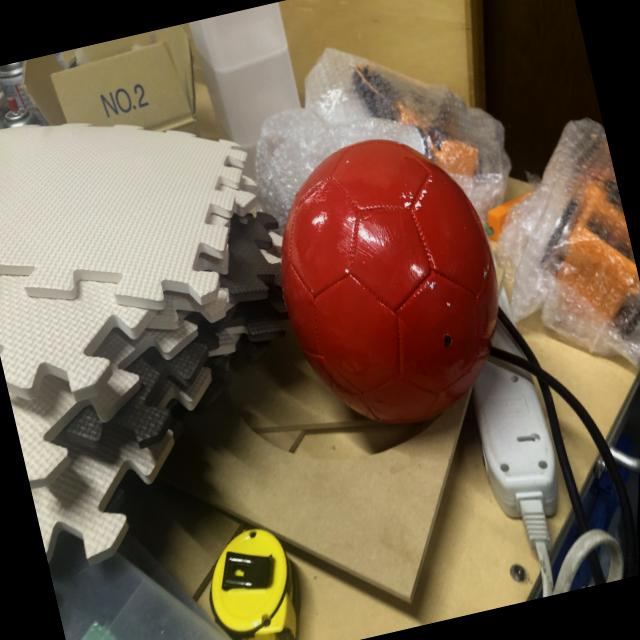red_ball: (250, 118, 526, 446)
